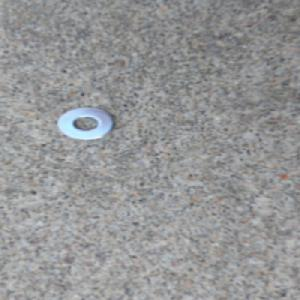Washer: (55, 105, 121, 143)
